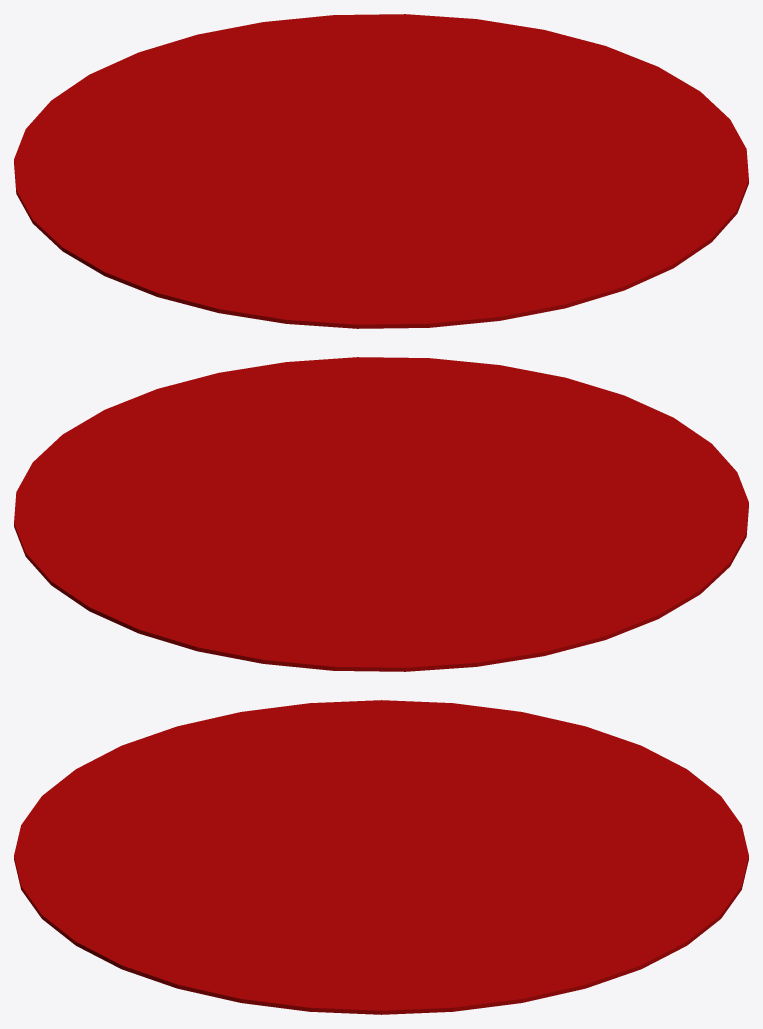
File: tomato.FBX
3 renders of one model, top to bottom at view 1: azimuth 30°, elevation 25°; view 2: azimuth 150°, elevation 25°; view 3: azimuth 270°, elevation 25°, orthographic.
Visible parts, largest first — view 1: Tomatoes; view 2: Tomatoes; view 3: Tomatoes.
Part boxes in pixels (<box>): Tomatoes: <box>14,14,748,328</box>; Tomatoes: <box>14,357,748,671</box>; Tomatoes: <box>14,700,748,1014</box>.
Bounding box in the file's own units: 0.00084 × 5.14e-06 × 0.00084.
